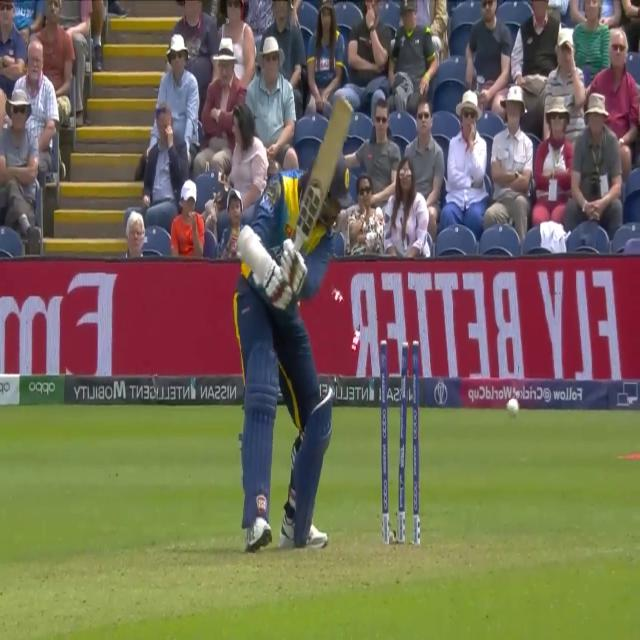ball: (500, 383, 524, 437)
